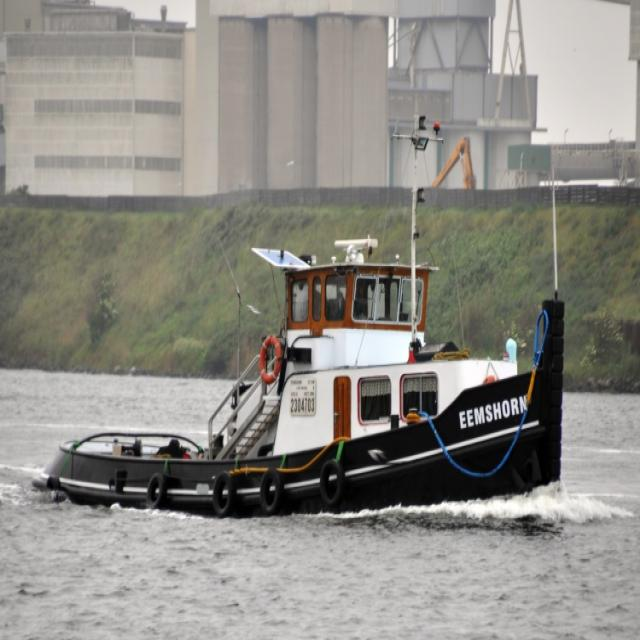tugboat: (28, 85, 572, 544)
